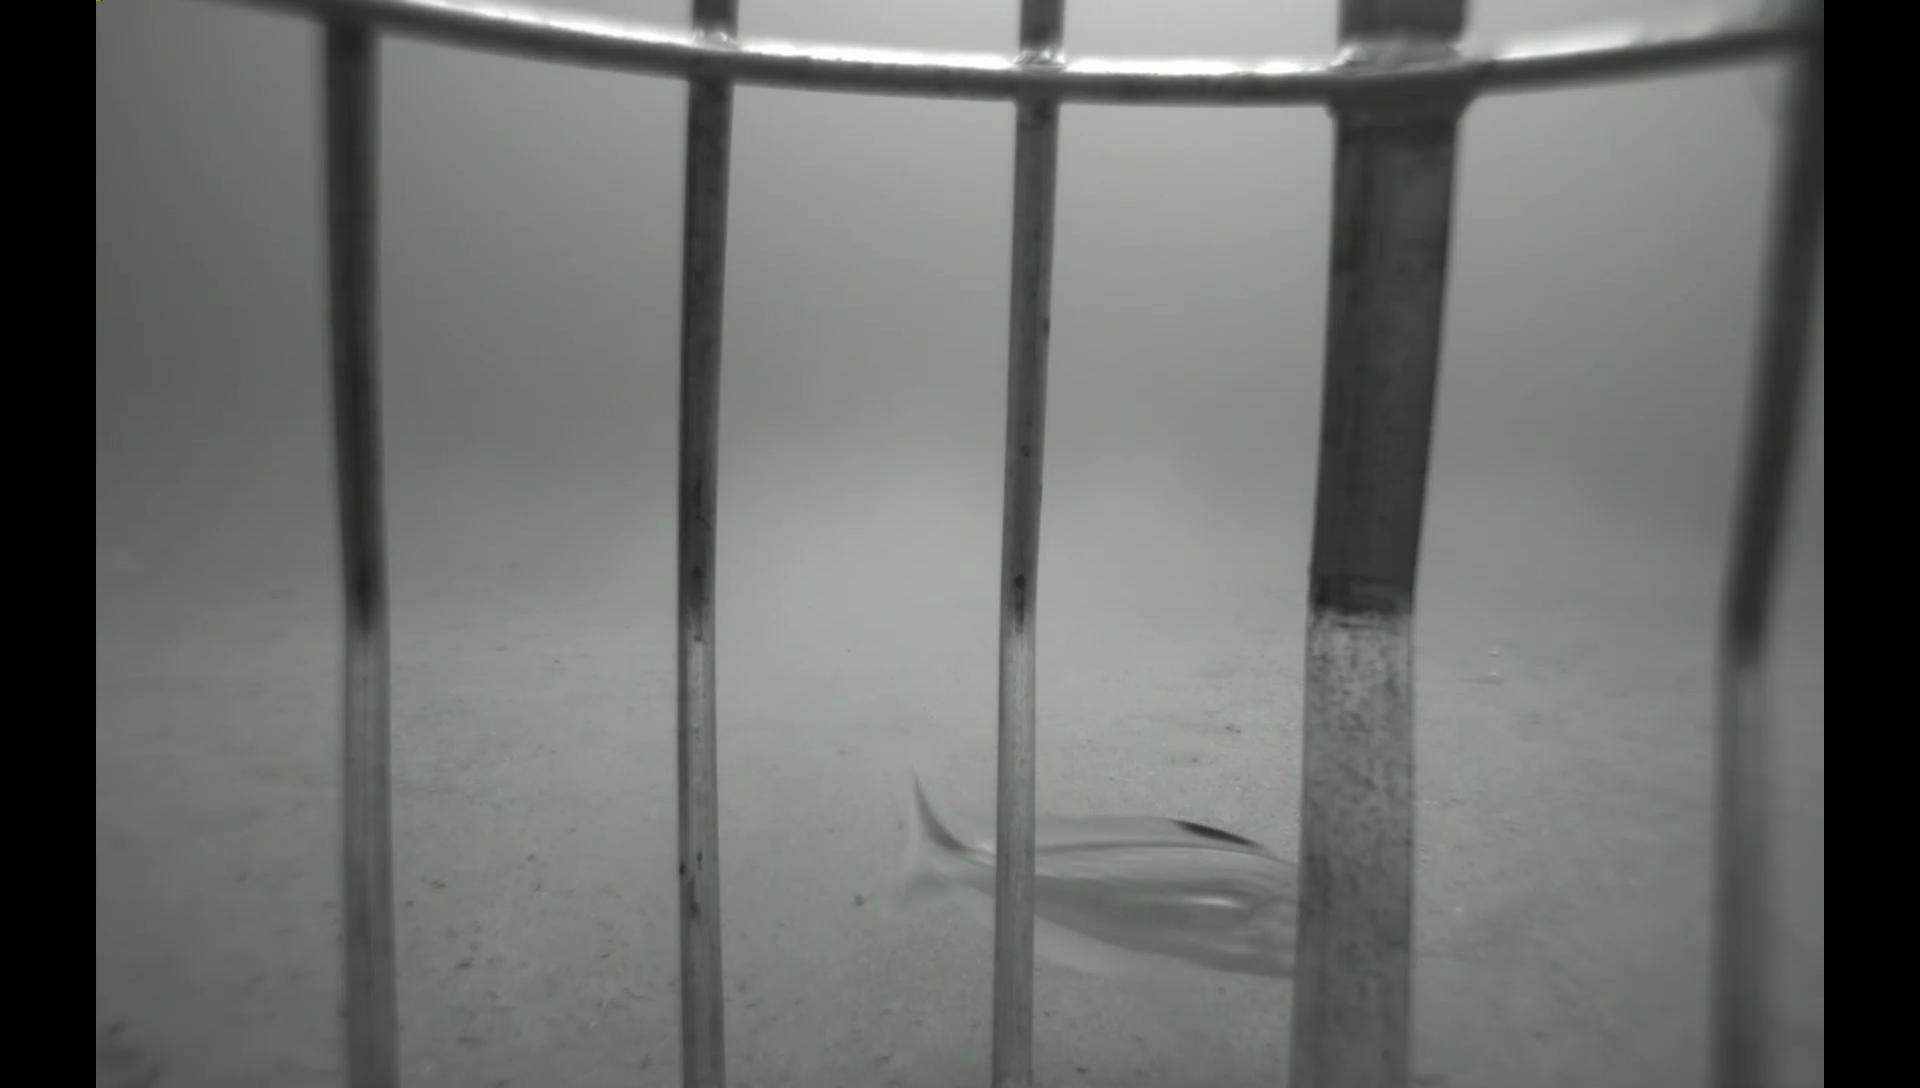CAULOLATILUSCYANOPS-170070101: (866, 746, 1304, 1006)
PRISTIPOMOIDES-170151800: (94, 534, 170, 595)
SYACIUM-183011000: (1138, 699, 1244, 742)
